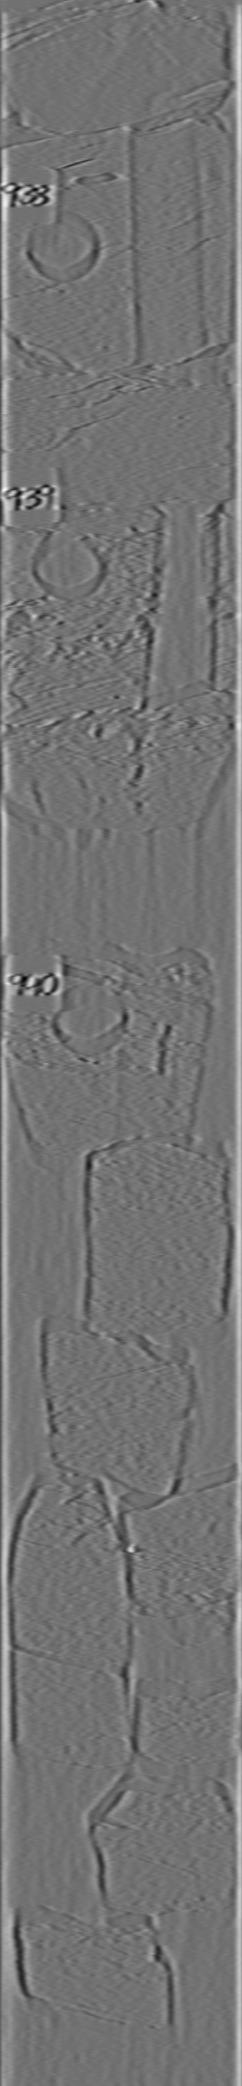hplug: (24, 521, 113, 603), (45, 976, 130, 1059), (23, 208, 102, 286)
vplug: (113, 125, 211, 367), (132, 502, 226, 718)
